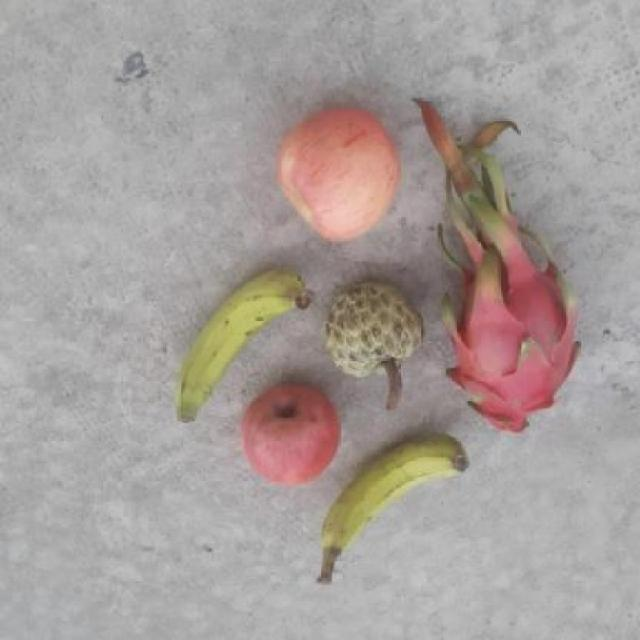apple: (244, 102, 422, 250), (234, 392, 351, 490)
banana: (137, 265, 321, 424), (322, 442, 473, 566)
dragon fruit: (436, 250, 590, 432)
sugar apple: (324, 278, 427, 380)
